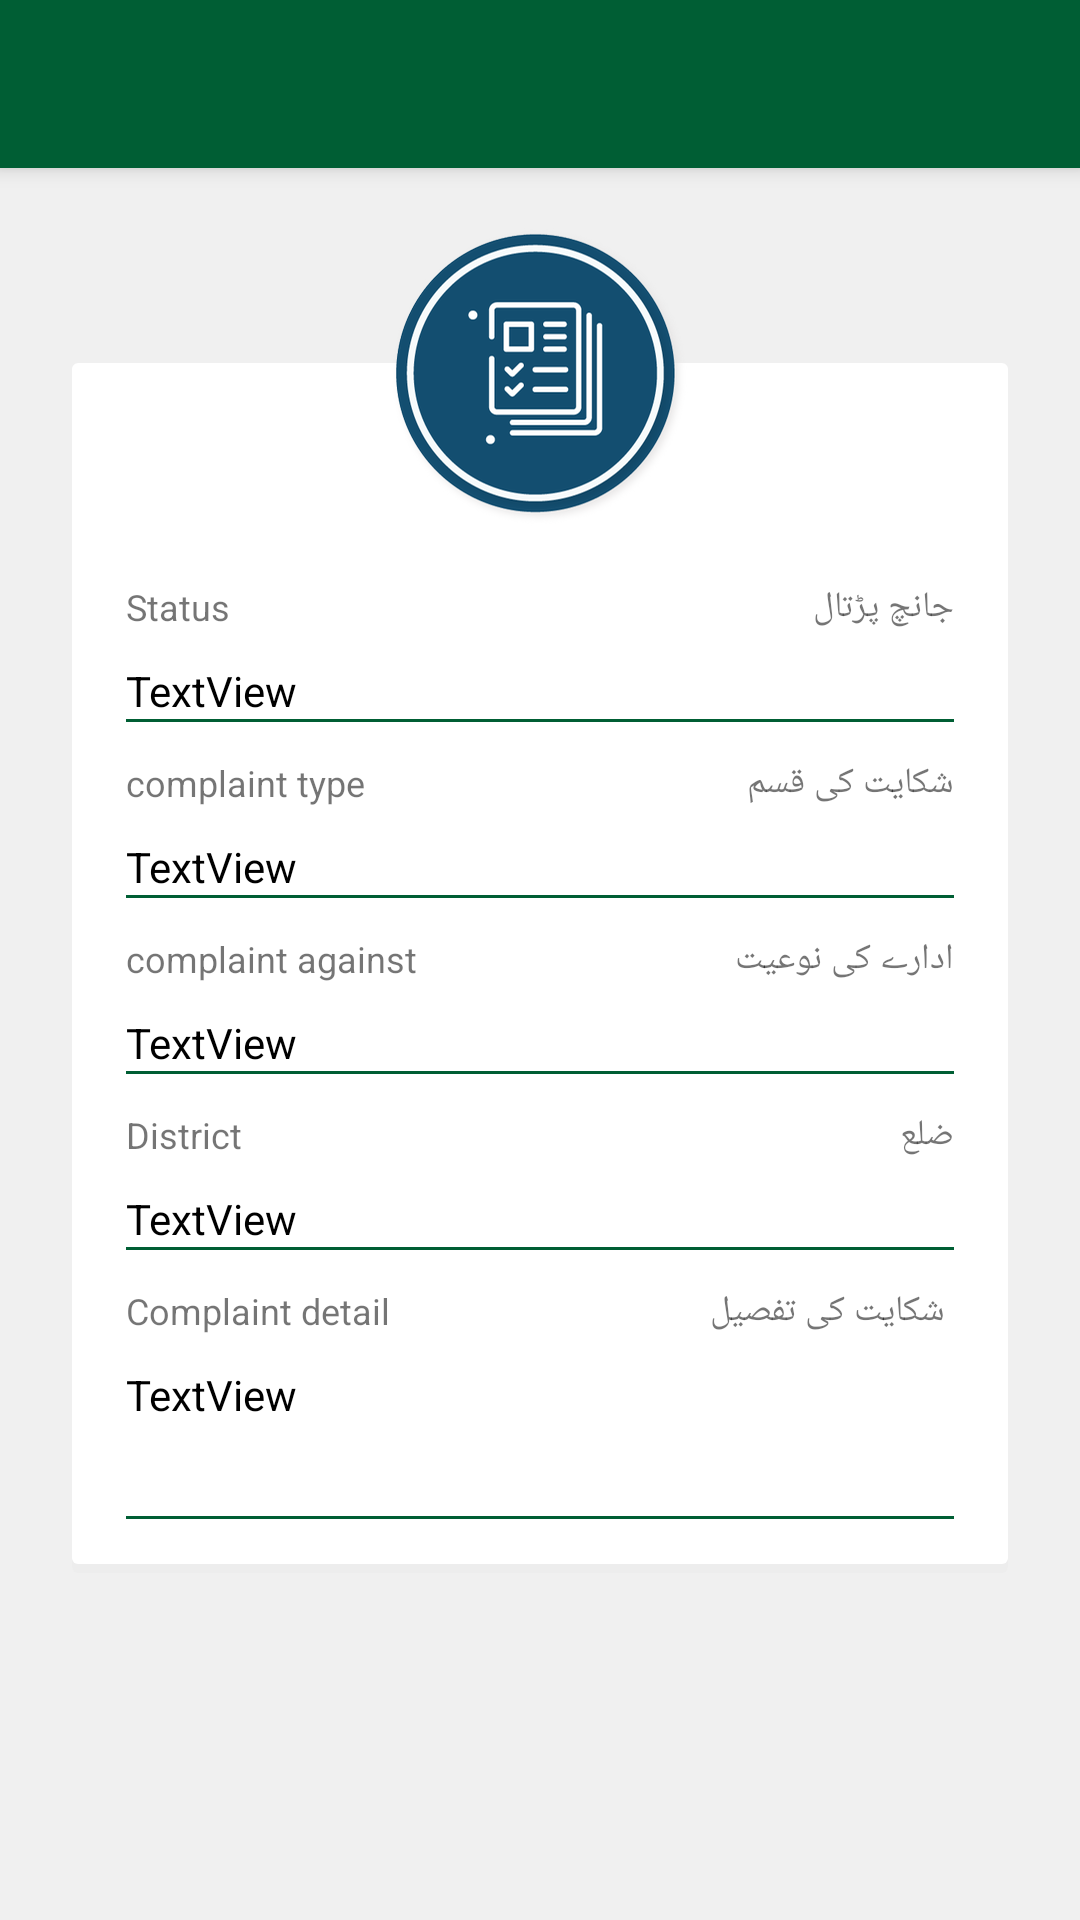

Named icons in this screenshot (1080w x 1920h) and their centers, (x,y):
detailicon: (535,373)
